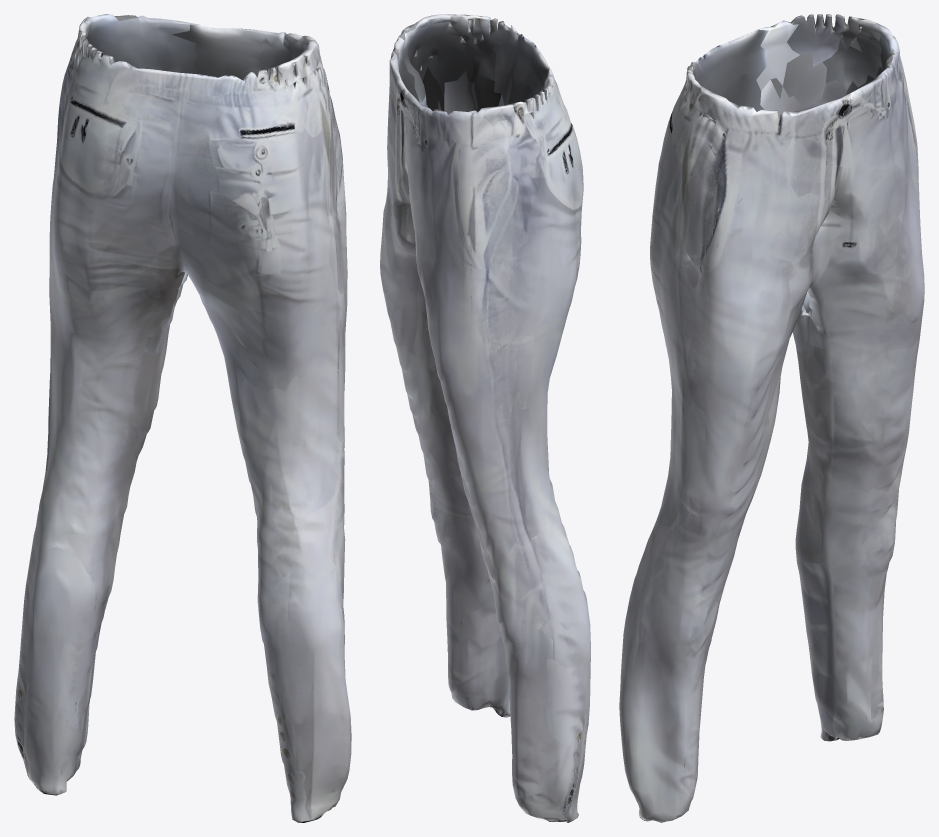
File: pantfinal.glb
3 views of the same model, side by side, from view 1: azimuth 30°, elevation 25°; view 2: azimuth 150°, elevation 25°; view 3: azimuth 270°, elevation 25° (orthographic). The views are drawn at different scales.
Size of the model in its own units: 0.3685 by 1 by 0.3735.
Materials: 1 (1 with a texture image).
